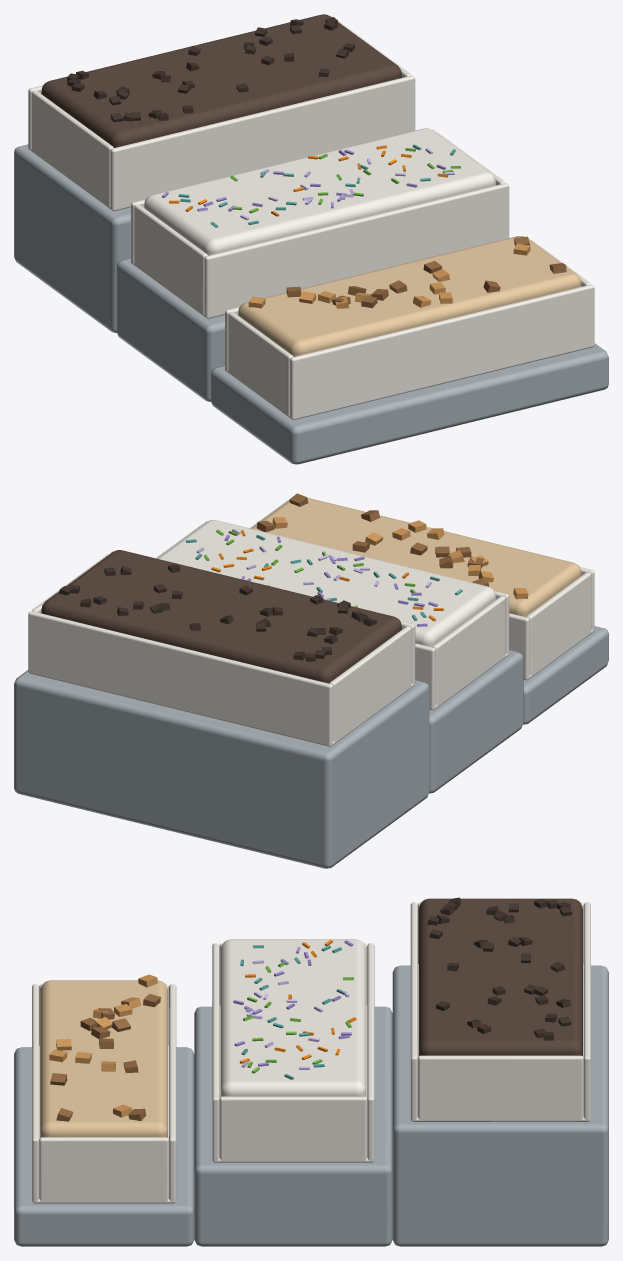
Rendered from SM_ToppingBins.glb.
The picture shows the model from 3 angles, top to bottom: view 1: azimuth 30°, elevation 25°; view 2: azimuth 150°, elevation 25°; view 3: azimuth 270°, elevation 25°; orthographic projection. The views are drawn at different scales.
Parts seen in each view (by area): view 1: SM_ToppingBins, Content_1_Cikolata, Content_2_Draje, Content_3_Biskuvi; view 2: SM_ToppingBins, Content_1_Cikolata, Content_2_Draje, Content_3_Biskuvi; view 3: SM_ToppingBins, Content_1_Cikolata, Content_2_Draje, Content_3_Biskuvi.
Boxes of the visible parts, x1,y1,x2,y2 form: SM_ToppingBins: (14, 15, 608, 464); Content_1_Cikolata: (41, 14, 401, 147); Content_2_Draje: (144, 128, 495, 255); Content_3_Biskuvi: (238, 236, 581, 356); SM_ToppingBins: (14, 500, 608, 868); Content_1_Cikolata: (41, 550, 401, 683); Content_2_Draje: (157, 520, 495, 647); Content_3_Biskuvi: (251, 493, 581, 616); SM_ToppingBins: (14, 902, 608, 1246); Content_1_Cikolata: (418, 897, 582, 1055); Content_2_Draje: (220, 939, 366, 1096); Content_3_Biskuvi: (40, 974, 167, 1137).
Size of the model in its own units: 0.43 by 0.2489 by 0.66.
Materials: 2 (2 with a texture image).
